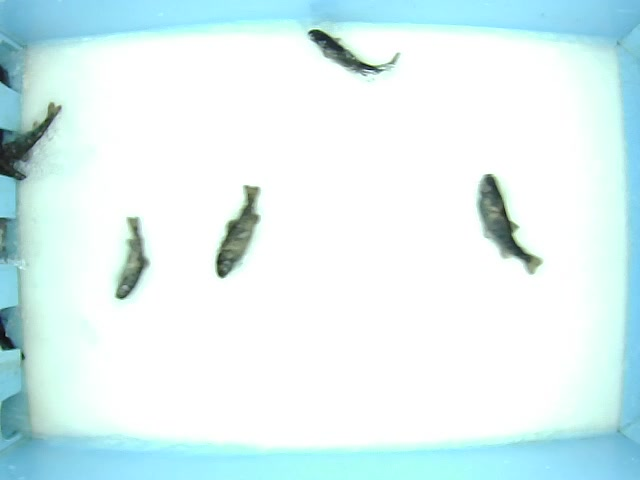fish: (472, 166, 552, 280), (205, 169, 275, 290), (305, 32, 415, 83), (107, 217, 149, 316)
